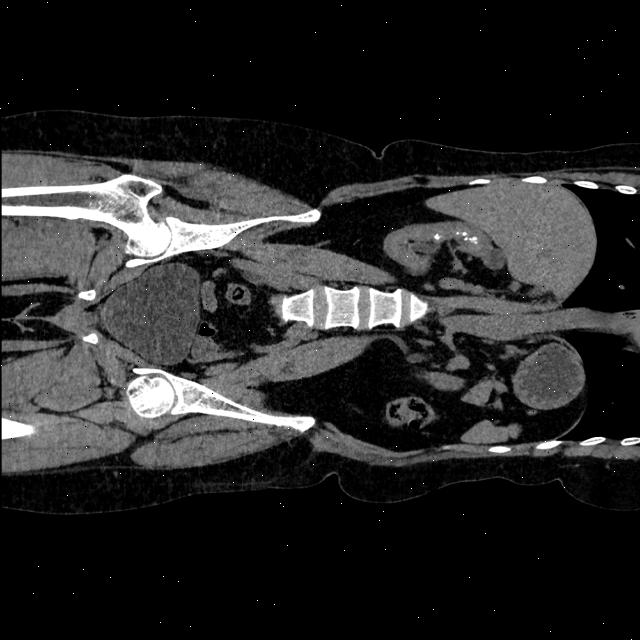kidneystone: (466, 236, 476, 244), (461, 231, 467, 238), (433, 234, 439, 240), (456, 231, 459, 235), (463, 238, 469, 240)
